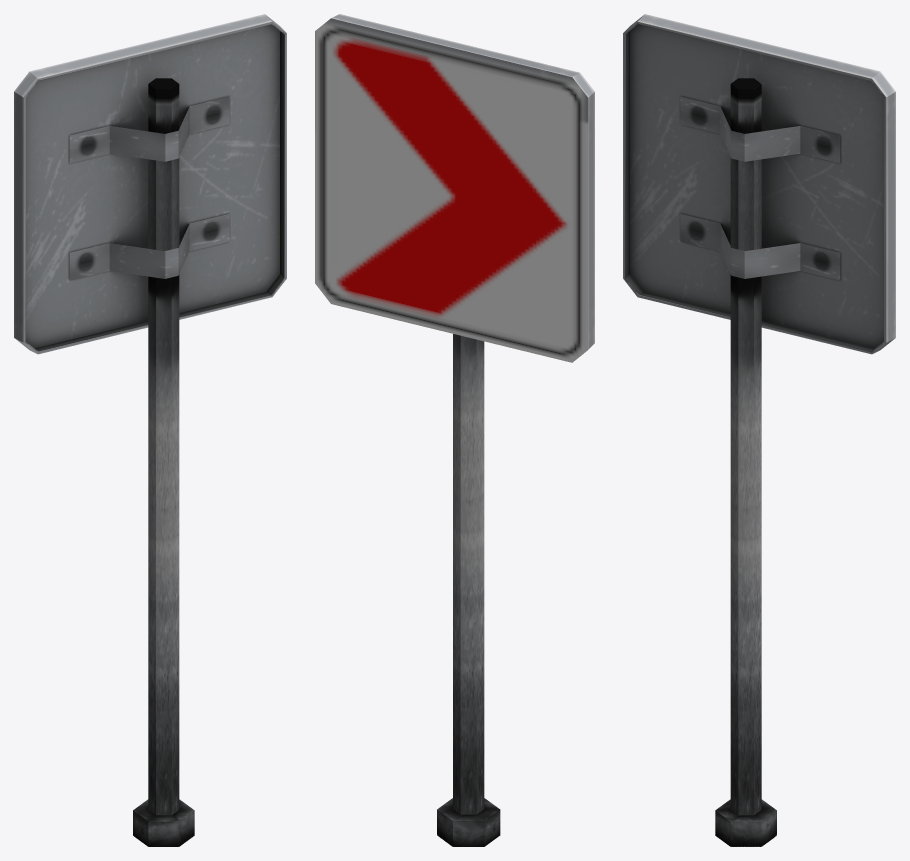
File: TRF0310017.fbx
3 views of the same model, side by side, from view 1: azimuth 30°, elevation 25°; view 2: azimuth 150°, elevation 25°; view 3: azimuth 330°, elevation 25° (orthographic). The views are drawn at different scales.
Visible parts, largest first — view 1: smTRF0310017; view 2: smTRF0310017; view 3: smTRF0310017.
Part boxes in pixels (box(x1,y1,x2,y2)): smTRF0310017: box(14, 14, 286, 846); smTRF0310017: box(315, 14, 594, 846); smTRF0310017: box(623, 14, 895, 846).
Size of the model in its own units: 50.79 by 142 by 10.57.
Materials: 1 (1 with a texture image).
